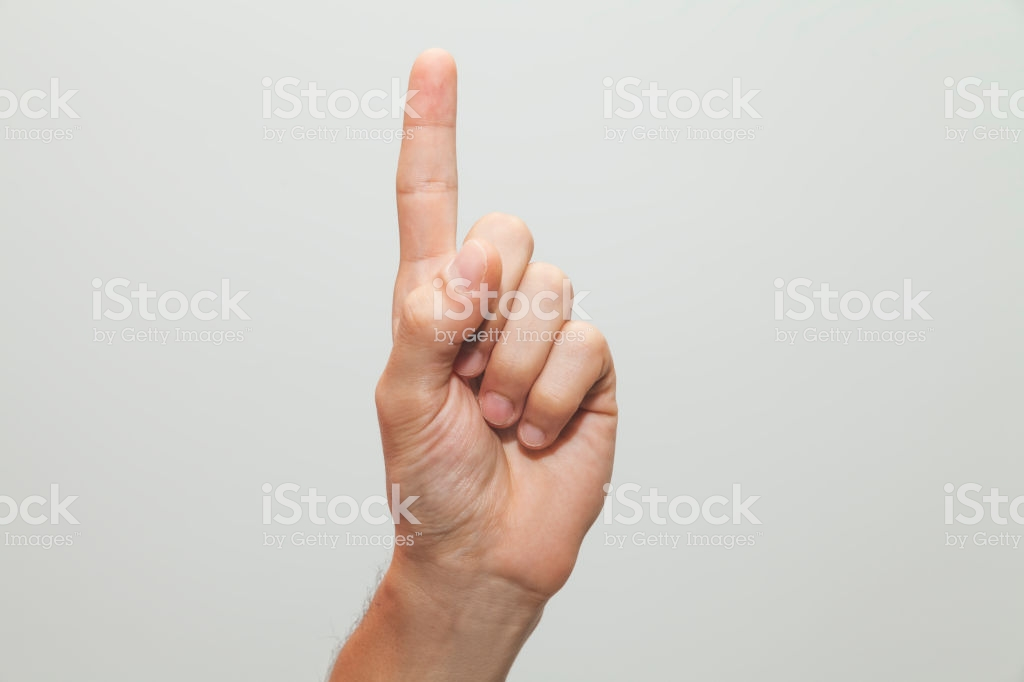move: (376, 50, 614, 602)
